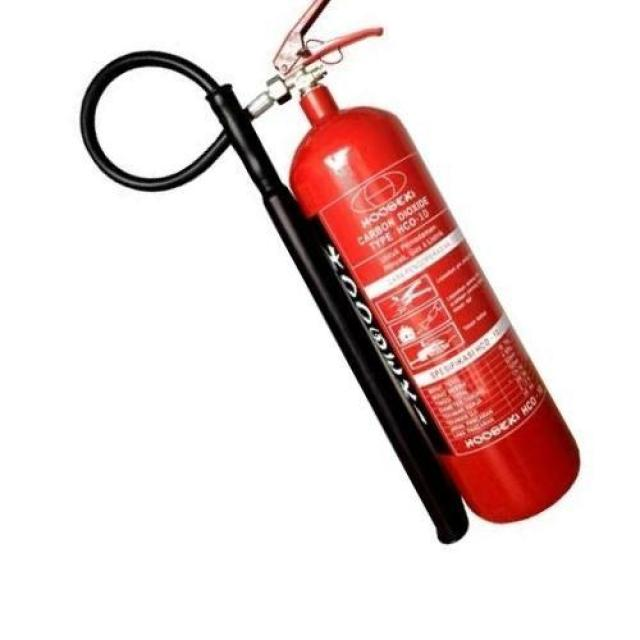fire_extinguisher: (71, 0, 587, 549)
